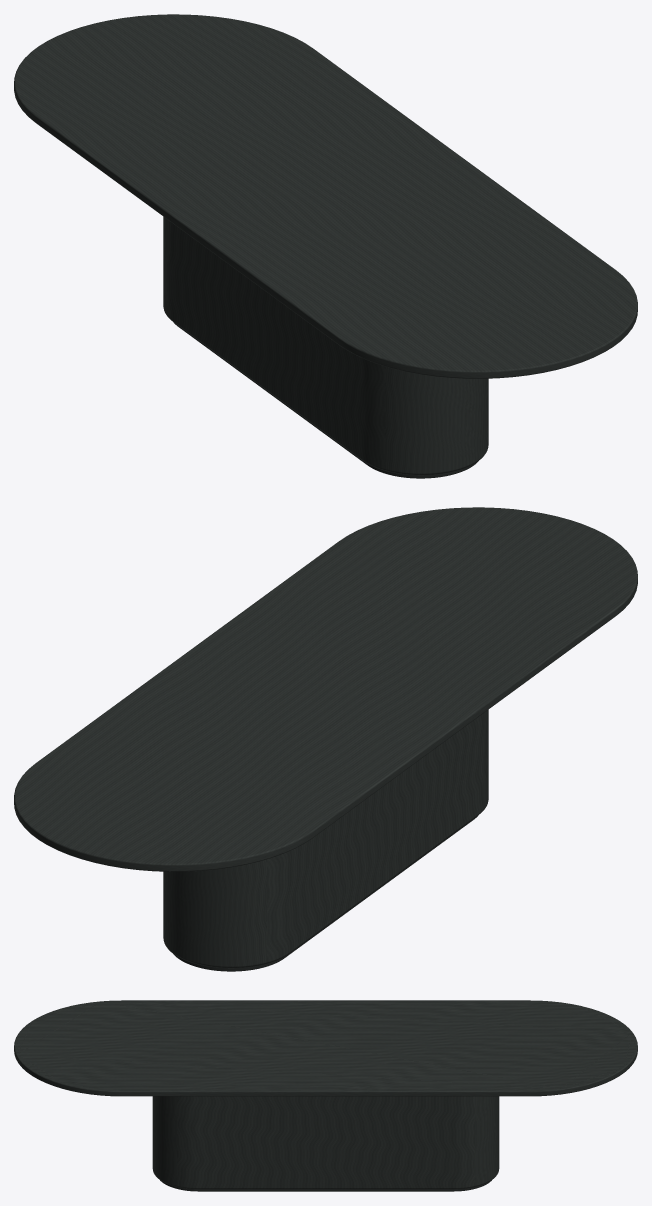
The model's file is lod0_source.glb.
3 views of the same model, one above another, from view 1: azimuth 30°, elevation 25°; view 2: azimuth 150°, elevation 25°; view 3: azimuth 270°, elevation 25° (orthographic). The views are drawn at different scales.
Visible parts, largest first — view 1: Long charcoal capsule tabletop, Broad charcoal capsule pedestal, Pedestal recessed floor plinth; view 2: Long charcoal capsule tabletop, Broad charcoal capsule pedestal, Pedestal recessed floor plinth; view 3: Long charcoal capsule tabletop, Broad charcoal capsule pedestal, Pedestal recessed floor plinth.
Boxes of the visible parts, bbox=[...] form: Long charcoal capsule tabletop: bbox=[14, 14, 637, 378]; Broad charcoal capsule pedestal: bbox=[163, 216, 488, 475]; Pedestal recessed floor plinth: bbox=[173, 322, 478, 478]; Long charcoal capsule tabletop: bbox=[14, 507, 637, 871]; Broad charcoal capsule pedestal: bbox=[163, 709, 488, 968]; Pedestal recessed floor plinth: bbox=[173, 815, 478, 971]; Long charcoal capsule tabletop: bbox=[14, 1000, 637, 1096]; Broad charcoal capsule pedestal: bbox=[152, 1096, 499, 1189]; Pedestal recessed floor plinth: bbox=[160, 1180, 491, 1191].
Size of the model in its own units: 1.16 by 0.761 by 3.35.
Materials: 2 (1 with a texture image).
